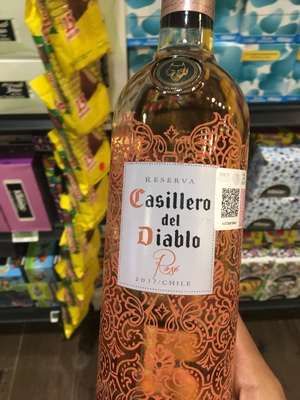casillero del diablo rose: (101, 9, 248, 399)
